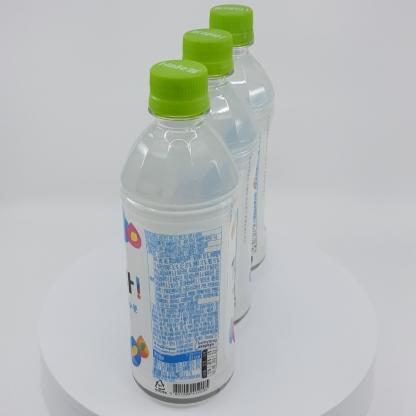-----500ML: (121, 59, 241, 407)
